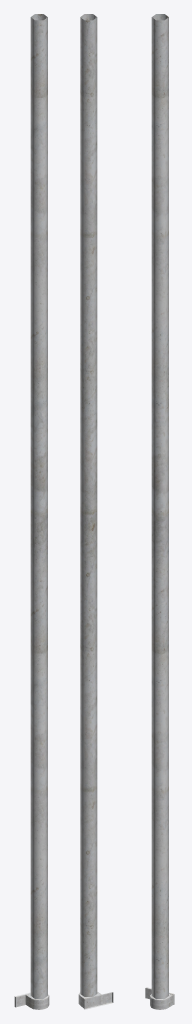
File: SM_Wires_Pipes_01ff.glb
3 views of the same model, side by side, from view 1: azimuth 30°, elevation 25°; view 2: azimuth 210°, elevation 25°; view 3: azimuth 330°, elevation 25° (orthographic).
Parts seen in each view (by area): view 1: SM_Wires_Pipes_01ff; view 2: SM_Wires_Pipes_01ff; view 3: SM_Wires_Pipes_01ff.
Part boxes in pixels (x1,y1,x2,y2): SM_Wires_Pipes_01ff: (14, 14, 49, 1009); SM_Wires_Pipes_01ff: (78, 14, 113, 1009); SM_Wires_Pipes_01ff: (145, 14, 174, 1009).
Bounding box in the file's own units: 0.0605 × 2 × 0.0367.
Materials: 1 (1 with a texture image).
